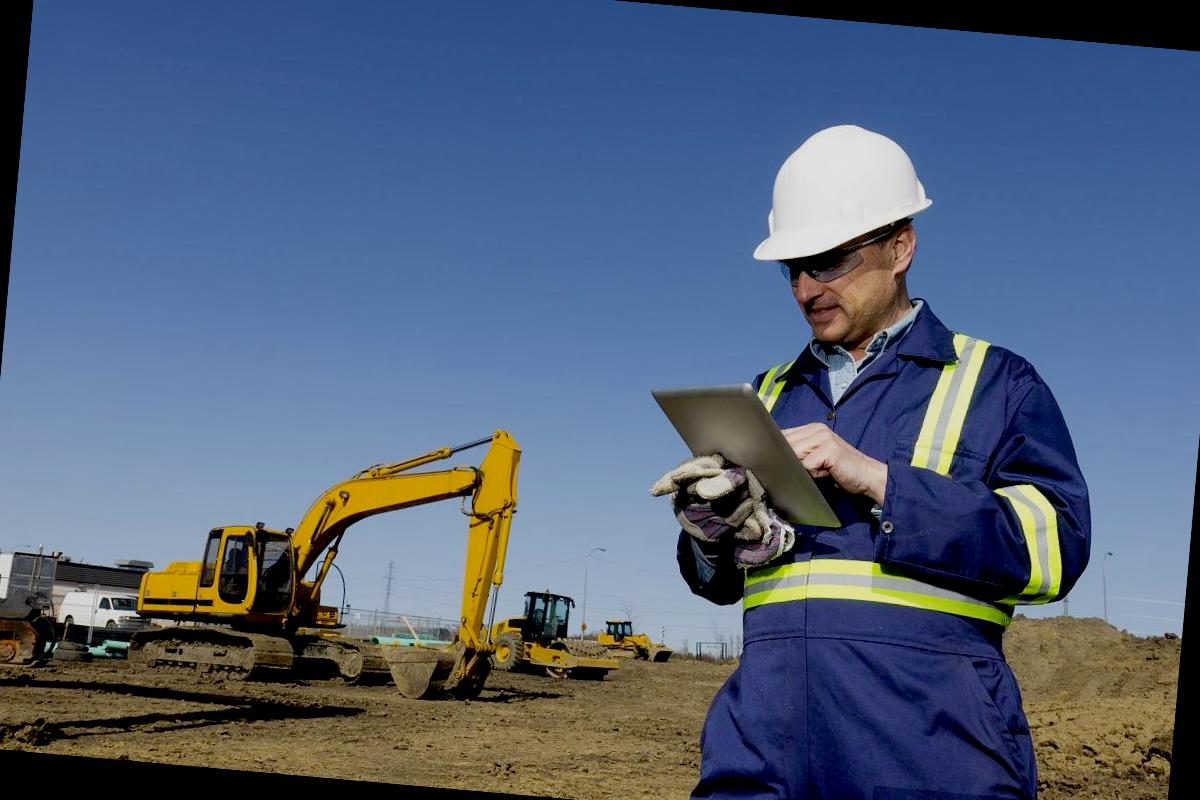helmet: (744, 113, 941, 288)
person: (640, 112, 1118, 800)
